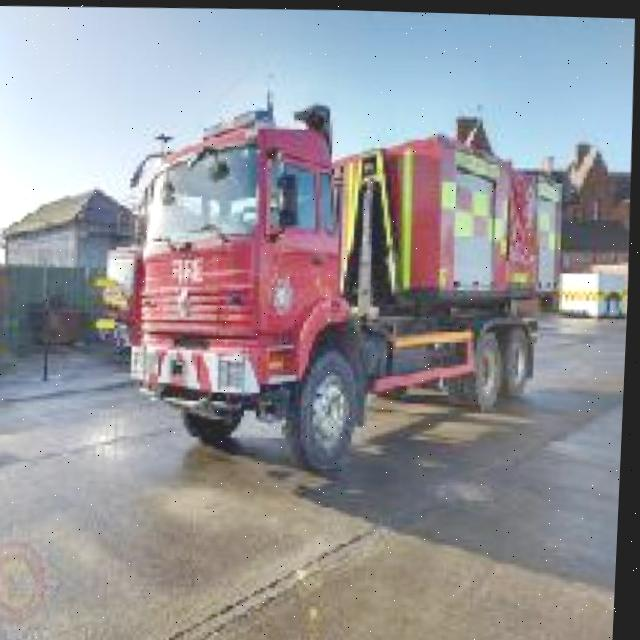emergency: (110, 79, 579, 484)
